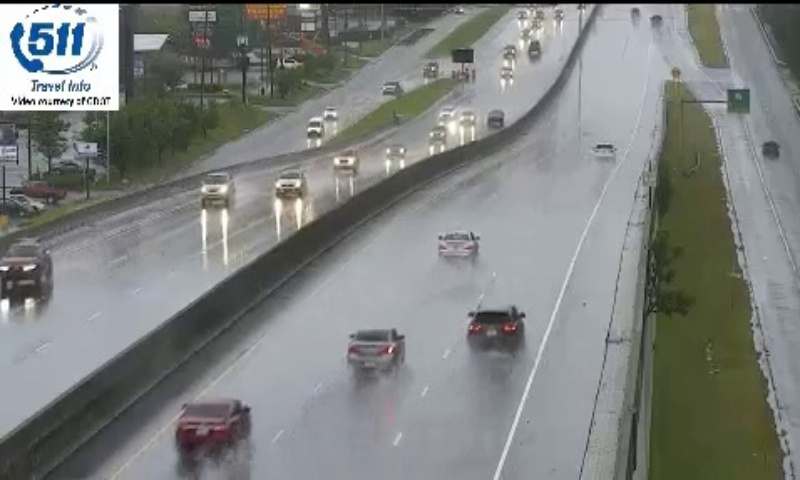car: (177, 398, 251, 453), (348, 327, 405, 373), (466, 306, 523, 346), (436, 232, 478, 260)
